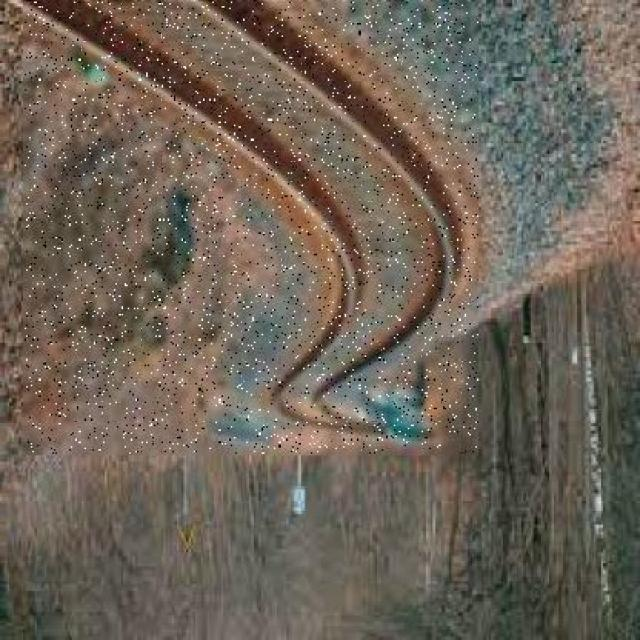rail: (25, 2, 478, 454)
